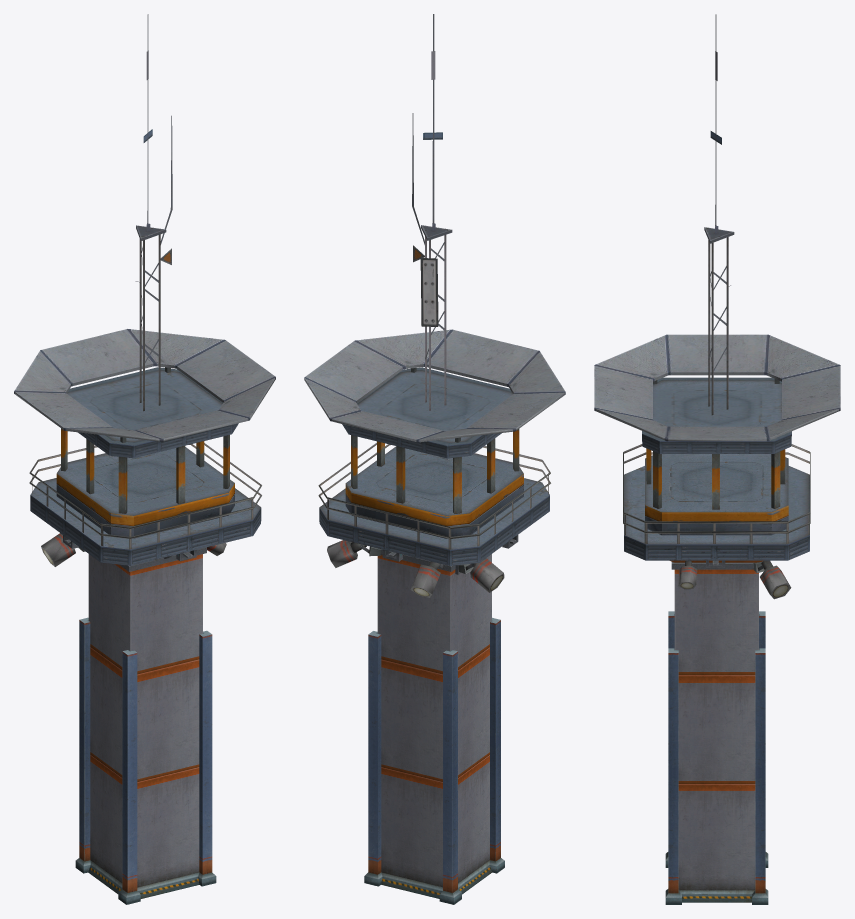
File: Building_TowerHcz01.glb
The picture shows the model from 3 angles, left to right: view 1: azimuth 30°, elevation 25°; view 2: azimuth 150°, elevation 25°; view 3: azimuth 270°, elevation 25°; orthographic projection.
Visible parts, largest first — view 1: xiutz_tower_hcz_01; view 2: xiutz_tower_hcz_01; view 3: xiutz_tower_hcz_01.
Boxes of the visible parts, <box> form: xiutz_tower_hcz_01: <box>14,14,275,904</box>; xiutz_tower_hcz_01: <box>304,14,565,904</box>; xiutz_tower_hcz_01: <box>594,14,840,904</box>.
Bounding box in the file's own units: 31.3 × 122 × 31.3.
Materials: 1 (1 with a texture image).
